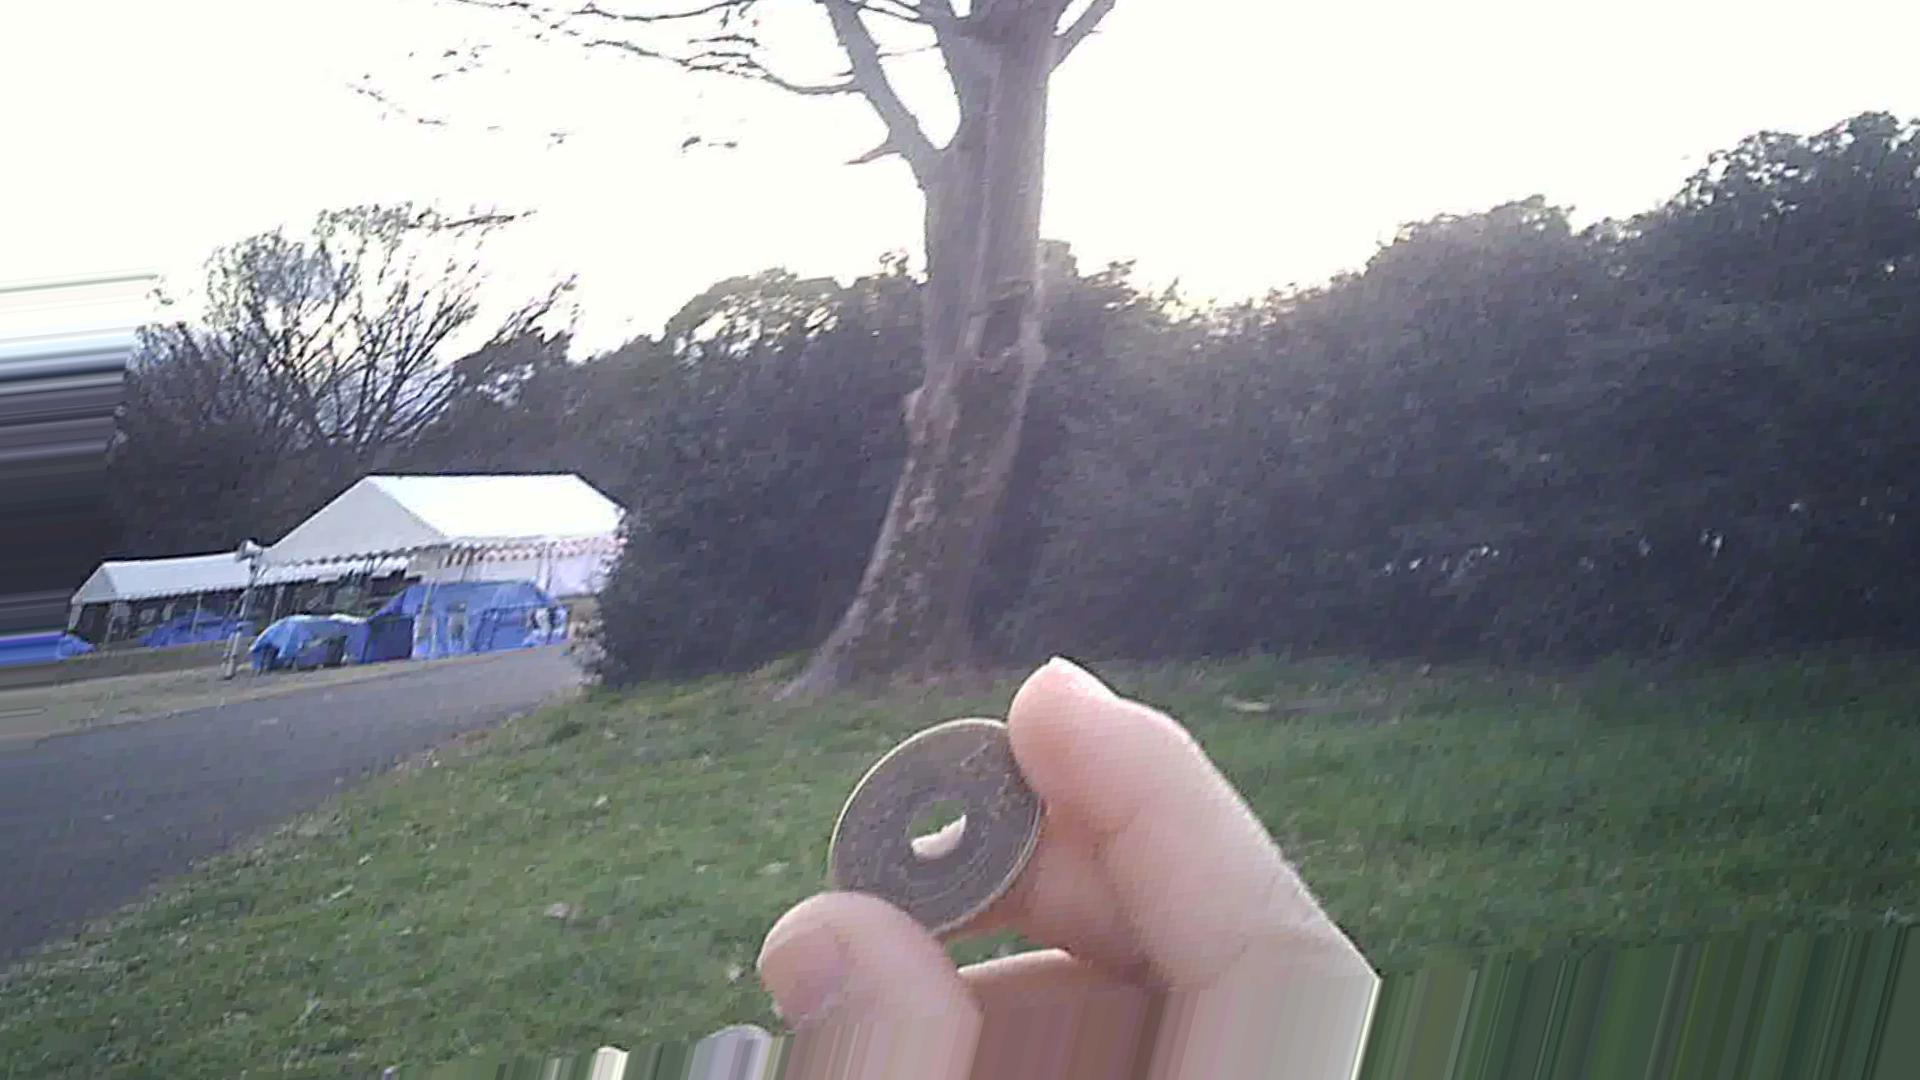5 Yen: (825, 709, 1051, 959)
